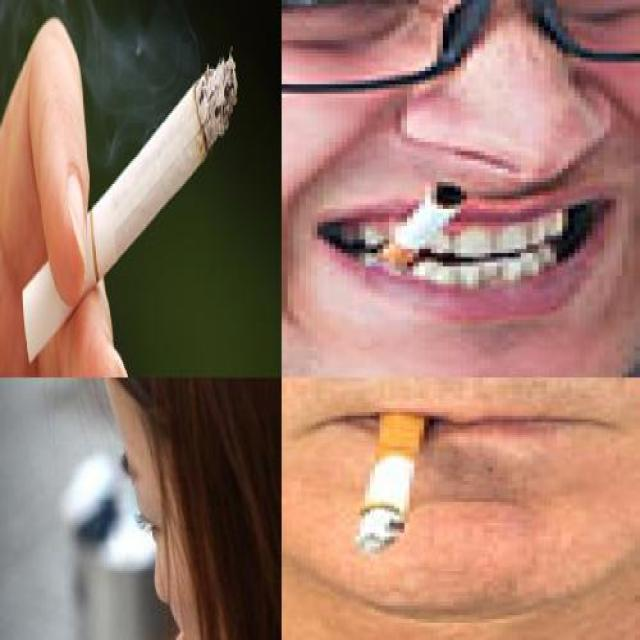smoking: (21, 49, 239, 364), (356, 403, 428, 553), (359, 174, 473, 258)
